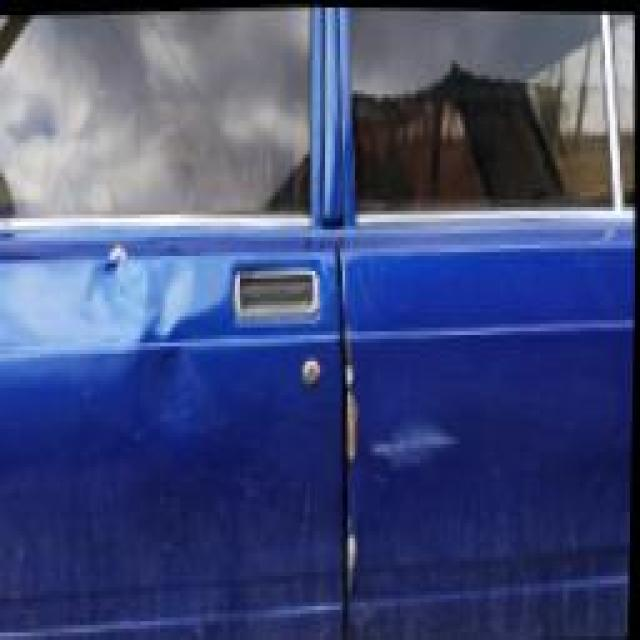Door: (35, 328, 547, 639)
